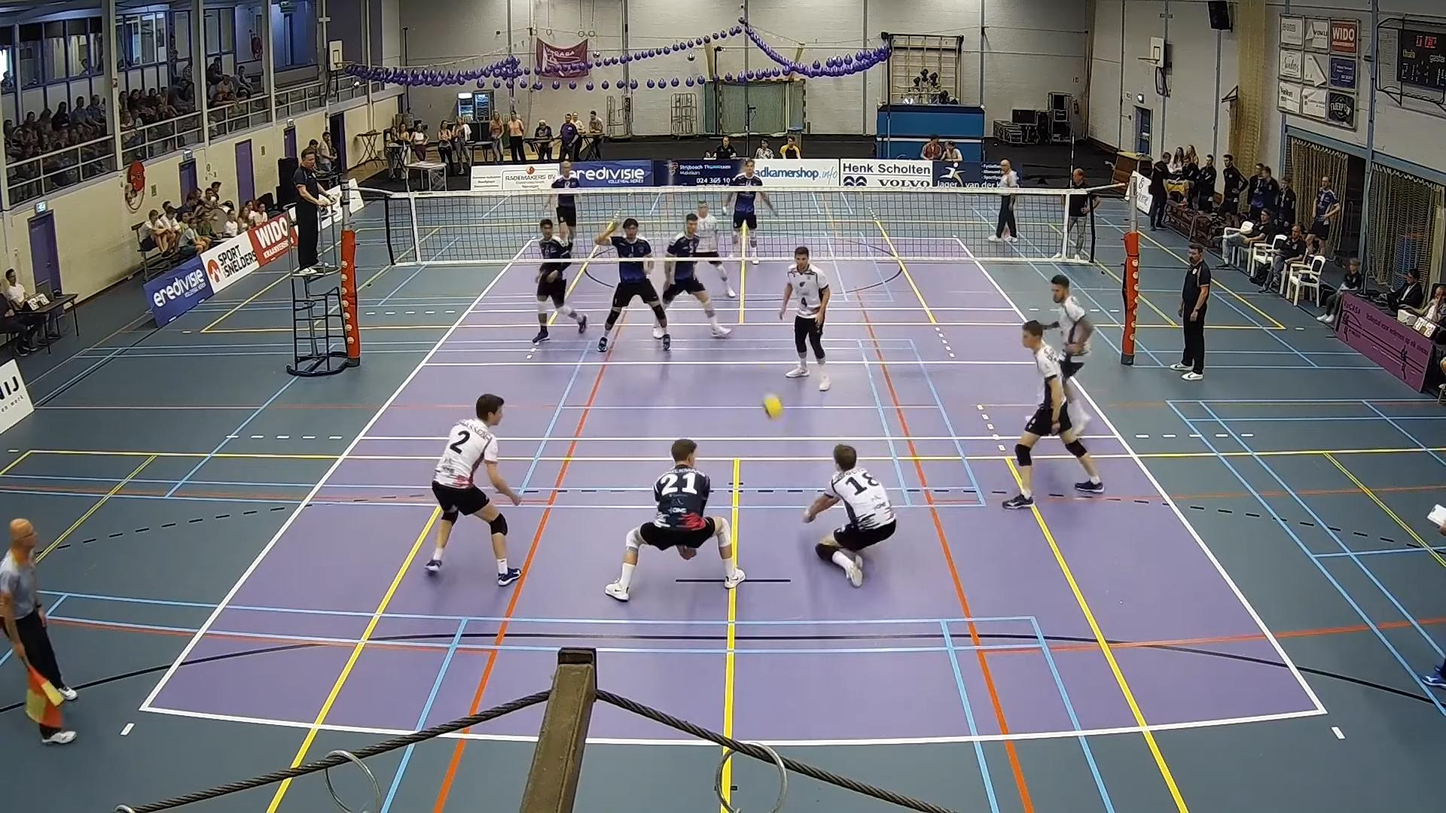ricezione: (800, 444, 899, 586)
